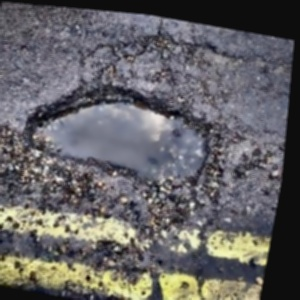pothole: (13, 67, 235, 206)
